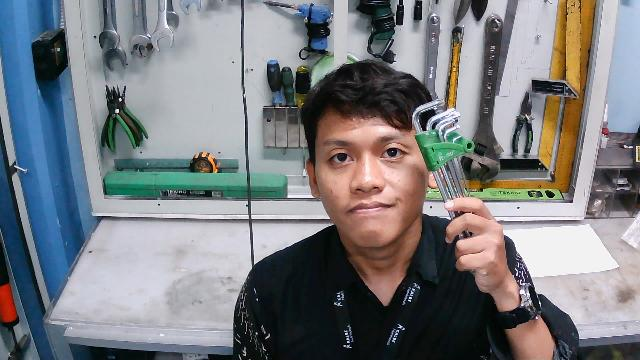kunci_l_bintang: (410, 96, 482, 253)
